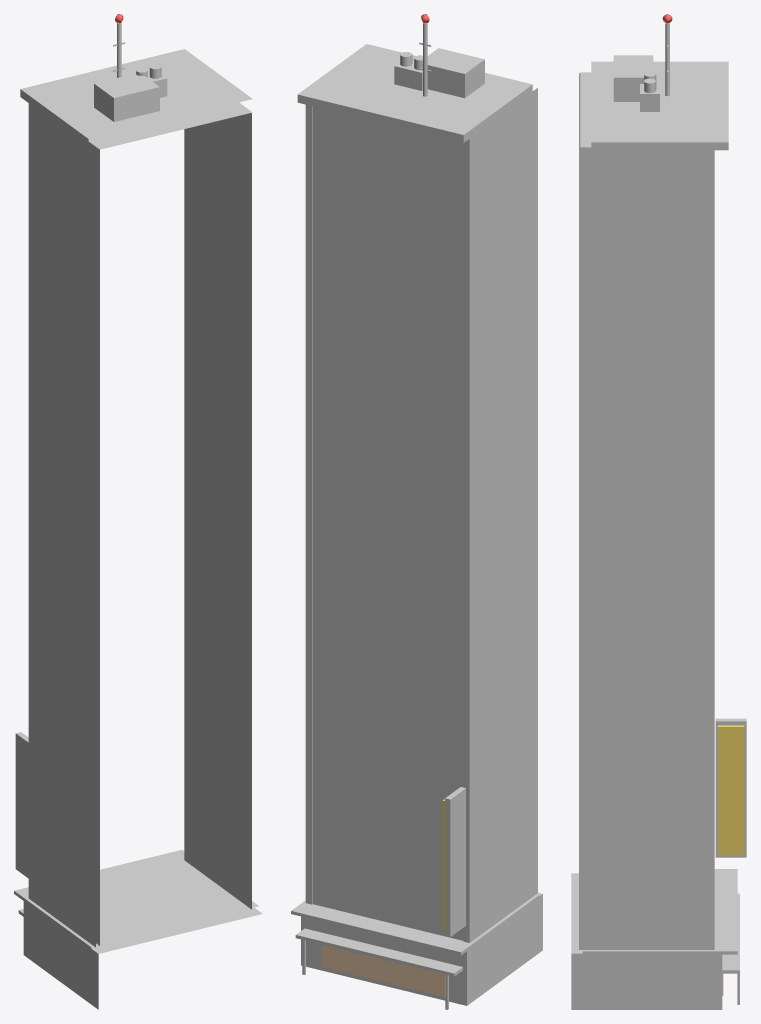
The model's file is OfficeSlab.glb.
The picture shows the model from 3 angles, left to right: view 1: azimuth 30°, elevation 25°; view 2: azimuth 150°, elevation 25°; view 3: azimuth 270°, elevation 25°; orthographic projection.
Parts seen in each view (by area): view 1: Body; view 2: Body, Warm; view 3: Body, Glow.
Boxes of the visible parts, x1,y1,x2,y2 form: Body: (14,22,262,1009); Body: (291,23,542,1009); Warm: (321,944,445,996); Body: (571,23,746,1009); Glow: (717,725,744,855).
Bounding box in the file's own units: 44 × 236 × 39.5.
